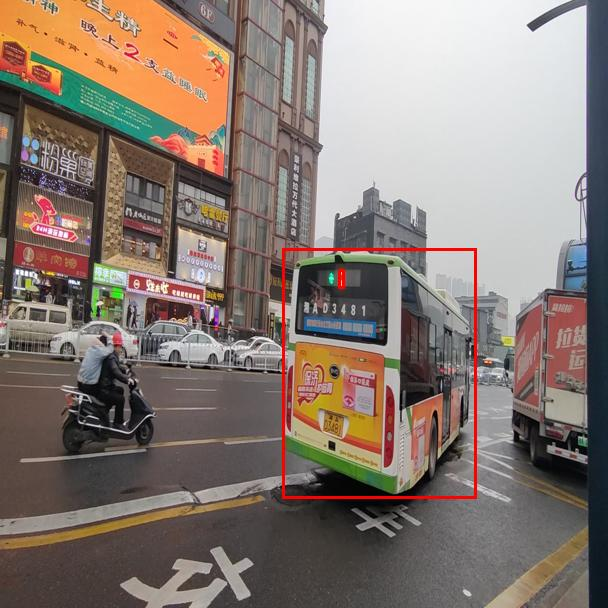bus: (282, 248, 476, 498)
screen: (338, 269, 344, 288)
